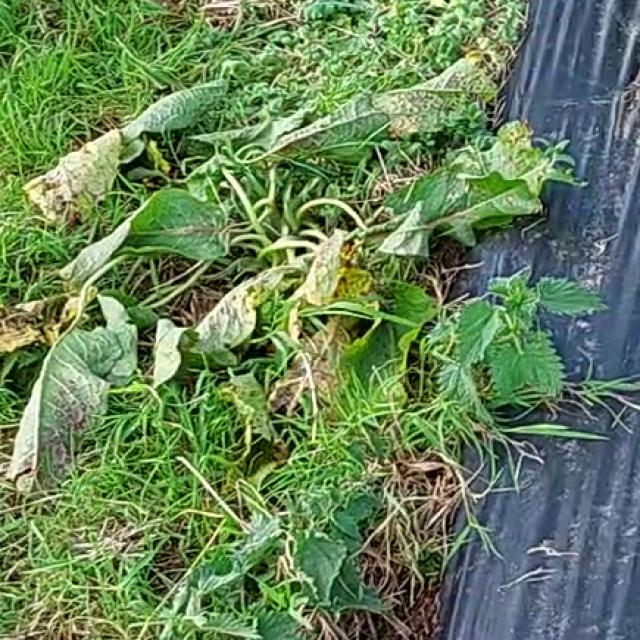organic waste: (27, 93, 494, 519)
